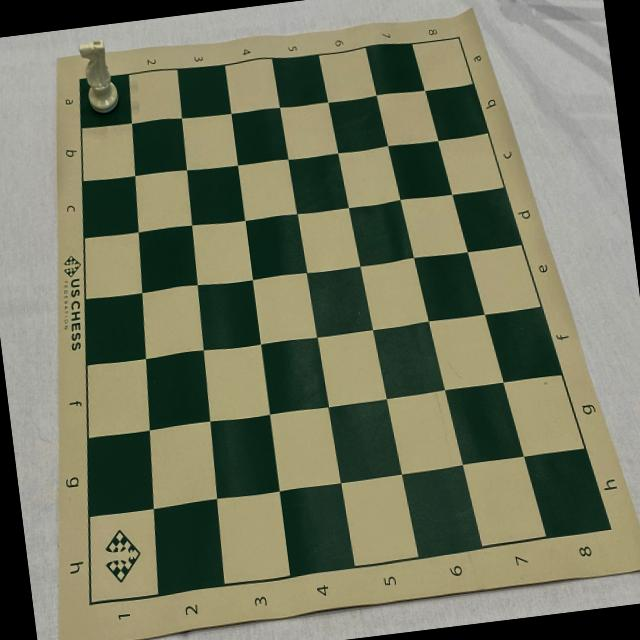white-knight: (74, 32, 122, 117)
